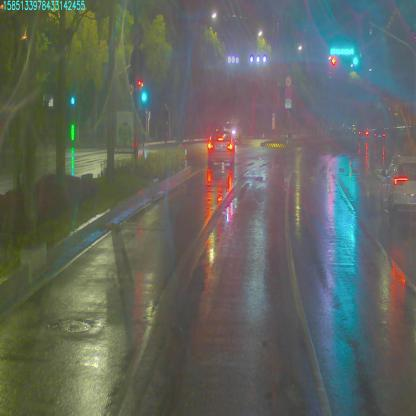traffic-light: (328, 46, 356, 56), (352, 57, 360, 68), (331, 57, 337, 66)
